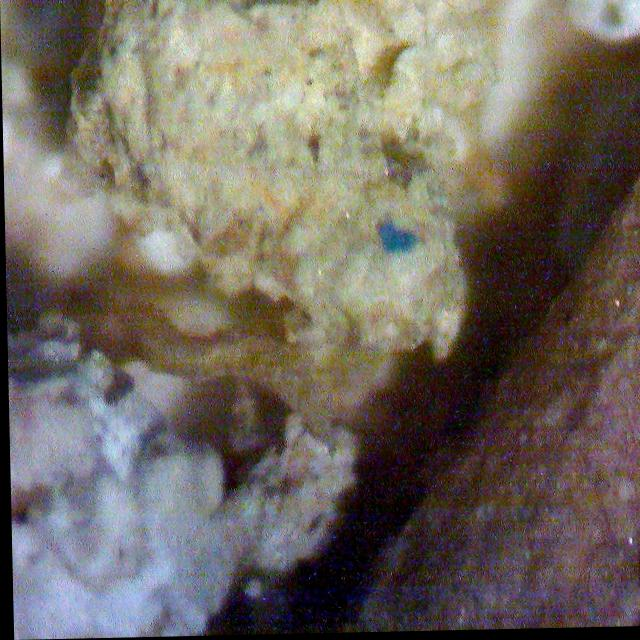microplastic: (373, 216, 418, 257)
